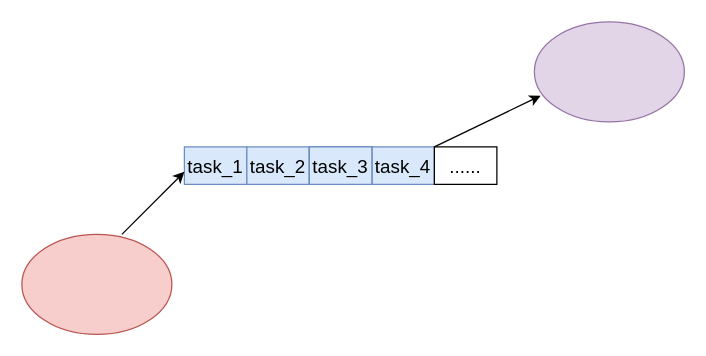
The diagram is 706 pixels wide and 356 high, and some of its shapes have lost their labels. Here are the shapes that lost their labels. From the top down, the centre of each, then its label:
At (x=608, y=71): "Consumer".
At (x=96, y=283): "Producers".
